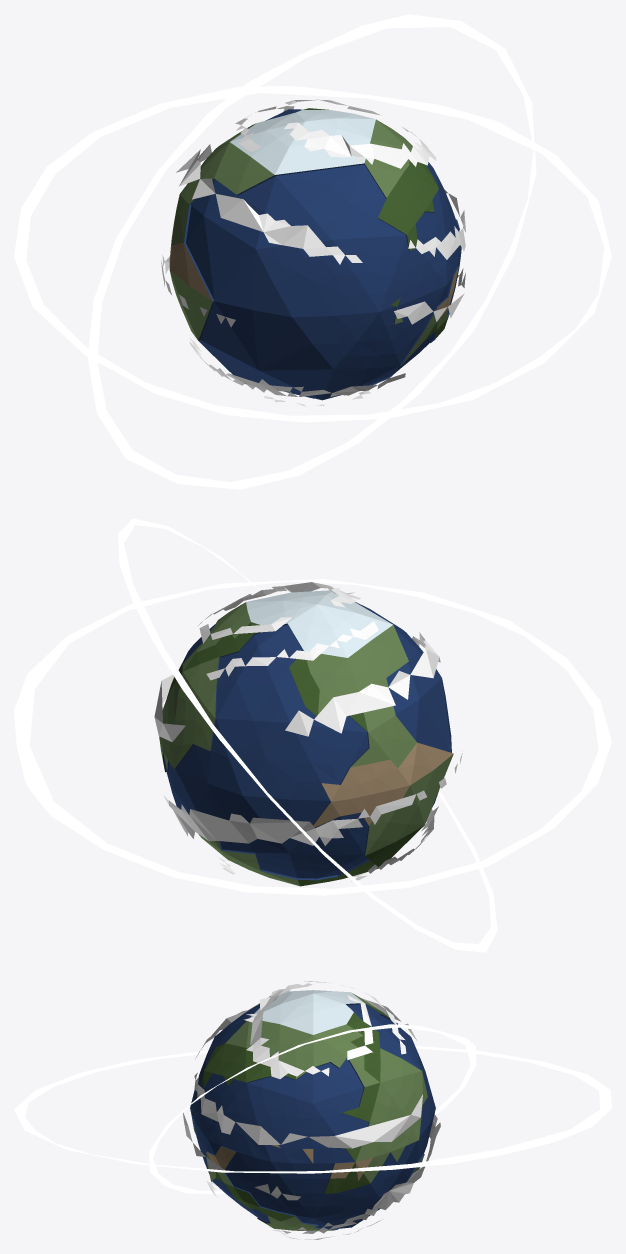
Rendered from planet17.glb.
3 views of the same model, one above another, from view 1: azimuth 30°, elevation 25°; view 2: azimuth 150°, elevation 25°; view 3: azimuth 270°, elevation 25° (orthographic). The views are drawn at different scales.
Parts seen in each view (by area): view 1: planet17; view 2: planet17; view 3: planet17.
Boxes of the visible parts, x1,y1,x2,y2 form: planet17: [14, 14, 611, 489]; planet17: [14, 518, 611, 952]; planet17: [14, 981, 611, 1239].
Bounding box in the file's own units: 6.91 × 4.81 × 8.97.
Materials: 1 (1 with a texture image).
